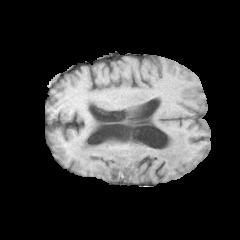glioma: (68, 120, 186, 180)
